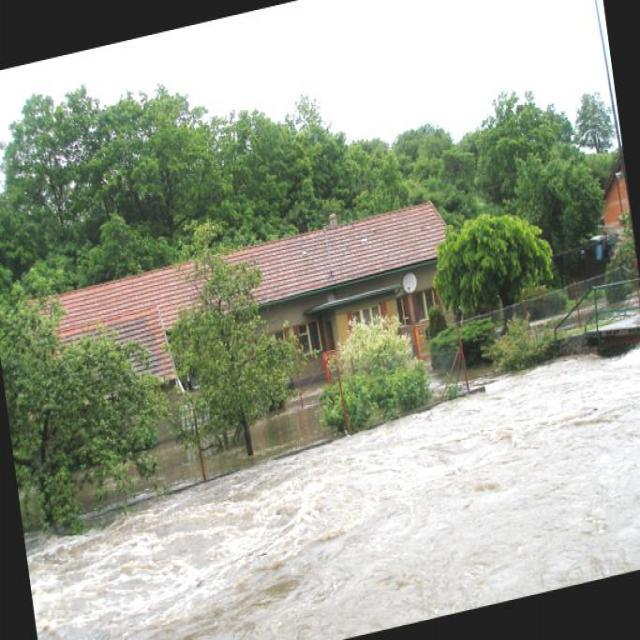flood: (16, 320, 639, 639)
